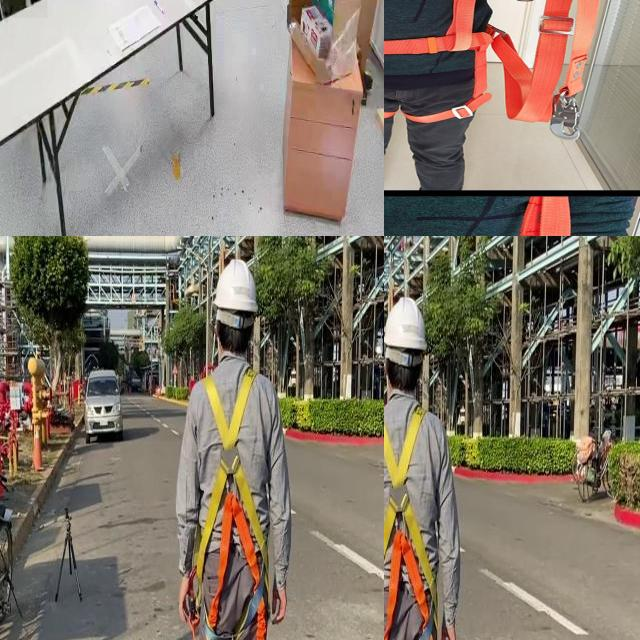Harness: (194, 368, 268, 640), (384, 0, 500, 119), (384, 406, 437, 640)
